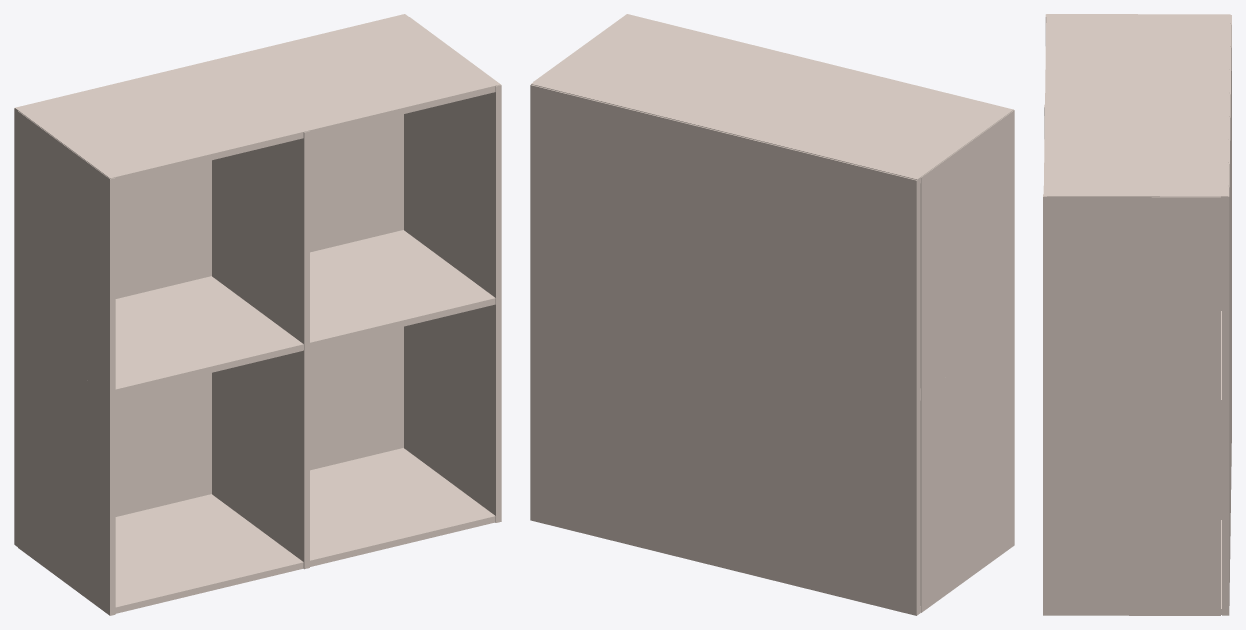
Rendered from Shelf_10.fbx.
3 renders of one model, left to right at view 1: azimuth 30°, elevation 25°; view 2: azimuth 150°, elevation 25°; view 3: azimuth 270°, elevation 25°, orthographic. The views are drawn at different scales.
Parts seen in each view (by area): view 1: Shelf_10; view 2: Shelf_10; view 3: Shelf_10.
Part boxes in pixels (bbox=[...]): Shelf_10: bbox=[14, 14, 501, 615]; Shelf_10: bbox=[530, 14, 1014, 615]; Shelf_10: bbox=[1043, 14, 1231, 615].
Bounding box in the file's own units: 102 × 44.31 × 108.
